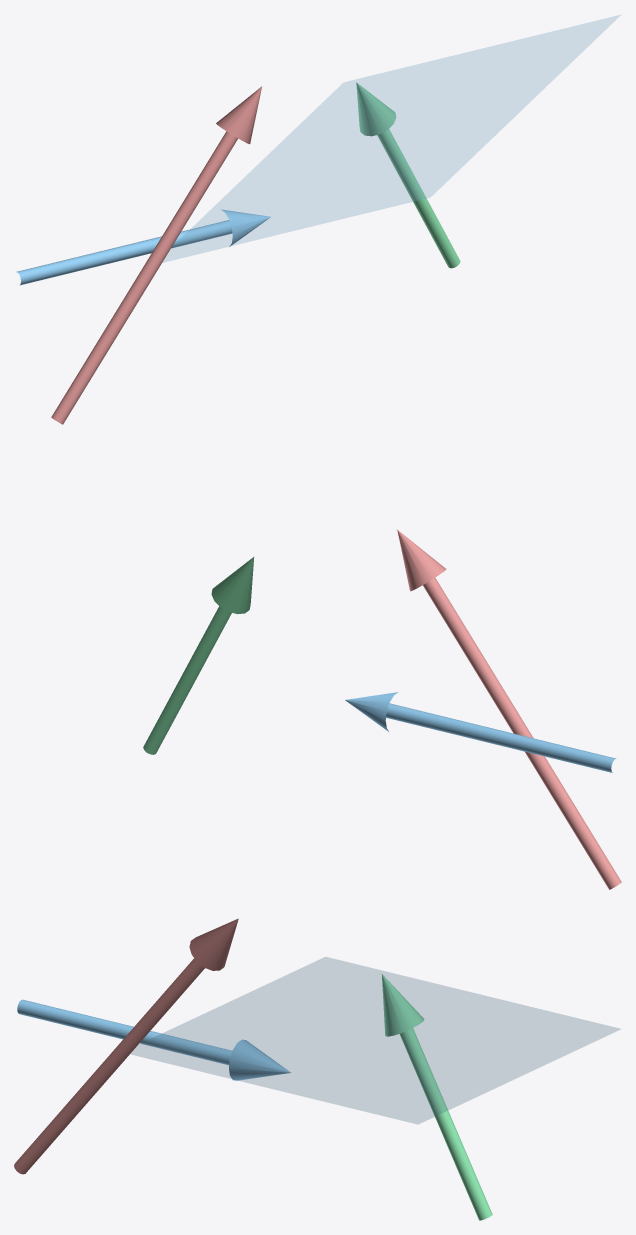
Rendered from vector-sum.glb.
The picture shows the model from 3 angles, top to bottom: view 1: azimuth 30°, elevation 25°; view 2: azimuth 150°, elevation 25°; view 3: azimuth 330°, elevation 25°; orthographic projection. The views are drawn at different scales.
Visible parts, largest first — view 1: parallelogram, resultant, vector_a, vector_b; view 2: resultant, vector_a, vector_b; view 3: parallelogram, resultant, vector_a, vector_b.
Boxes of the visible parts, x1,y1,x2,y2 form: parallelogram: (162, 15, 620, 262); resultant: (51, 86, 262, 424); vector_a: (16, 209, 270, 285); vector_b: (356, 82, 460, 268); resultant: (397, 529, 621, 889); vector_a: (345, 692, 616, 772); vector_b: (143, 557, 254, 754); parallelogram: (131, 957, 620, 1124); resultant: (14, 918, 238, 1174); vector_a: (17, 999, 290, 1080); vector_b: (381, 974, 492, 1220).
Size of the model in its own units: 1.8 by 0.849 by 0.2141.
